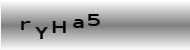5: (87, 12, 101, 27)
H: (51, 20, 66, 35)
Y: (34, 25, 48, 41)
a: (71, 18, 85, 29)
r: (19, 19, 31, 31)
